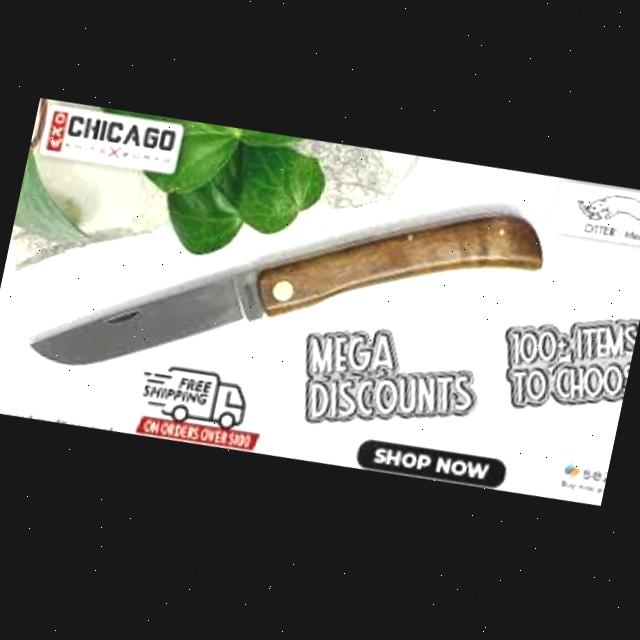Knife: (22, 121, 551, 459)
